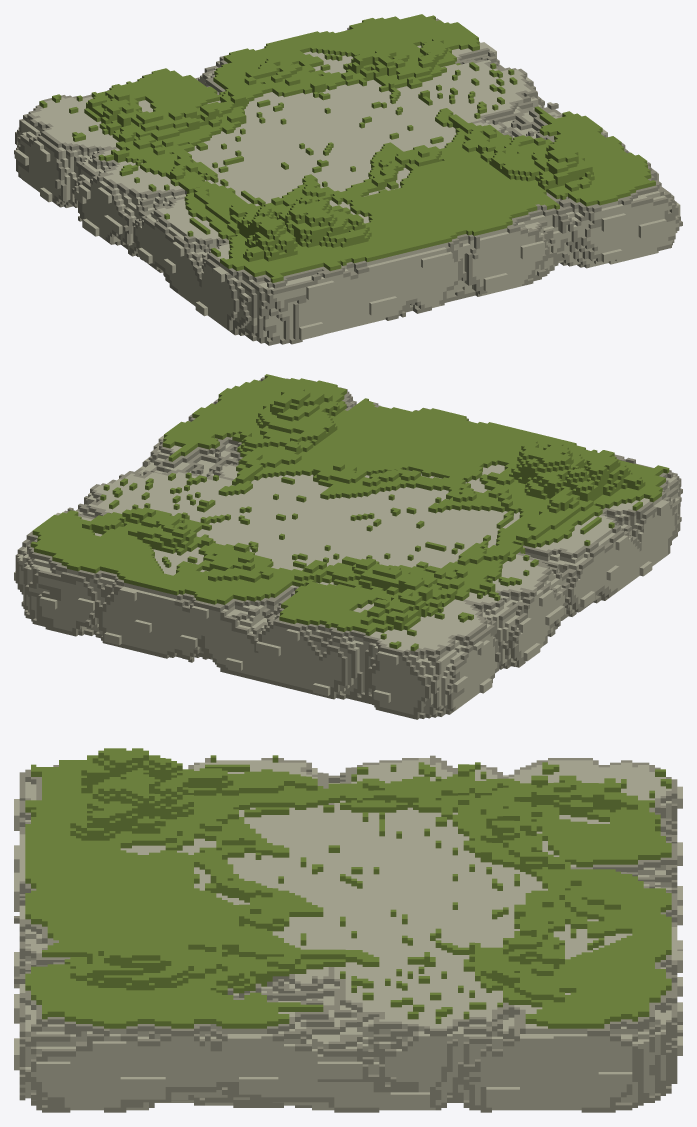
The model's file is forest1.2-14.obj.
The picture shows the model from 3 angles, top to bottom: view 1: azimuth 30°, elevation 25°; view 2: azimuth 150°, elevation 25°; view 3: azimuth 270°, elevation 25°; orthographic projection. The views are drawn at different scales.
Size of the model in its own units: 11.8 by 2.3 by 11.9.
Materials: 1 (1 with a texture image).
